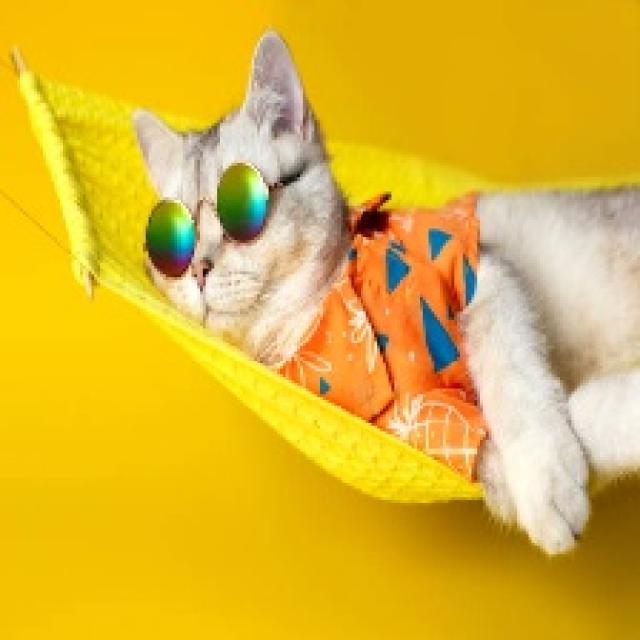bear: (86, 53, 618, 624)
